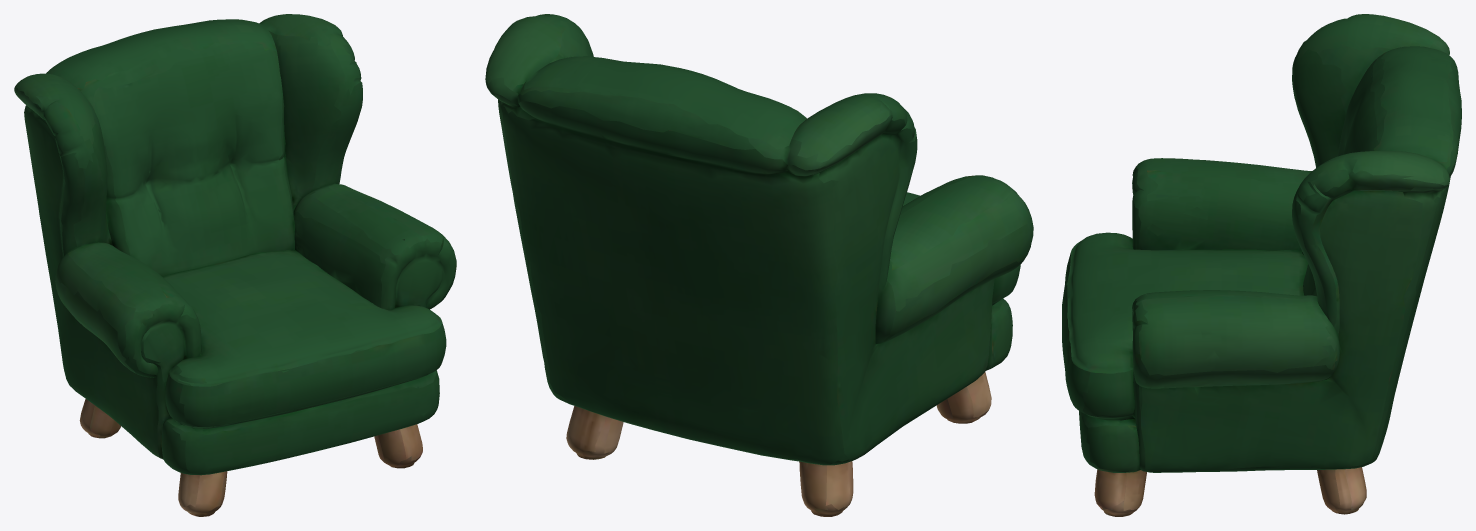
Rendered from x-armchair.glb.
The picture shows the model from 3 angles, left to right: view 1: azimuth 30°, elevation 25°; view 2: azimuth 150°, elevation 25°; view 3: azimuth 270°, elevation 25°; orthographic projection. The views are drawn at different scales.
Visible parts, largest first — view 1: geometry_0; view 2: geometry_0; view 3: geometry_0.
Part boxes in pixels (x1,y1,x2,y2): geometry_0: (14,14,456,516); geometry_0: (485,14,1033,516); geometry_0: (1062,14,1461,516).
Size of the model in its own units: 0.9996 by 1 by 0.9583.
Materials: 1 (1 with a texture image).
